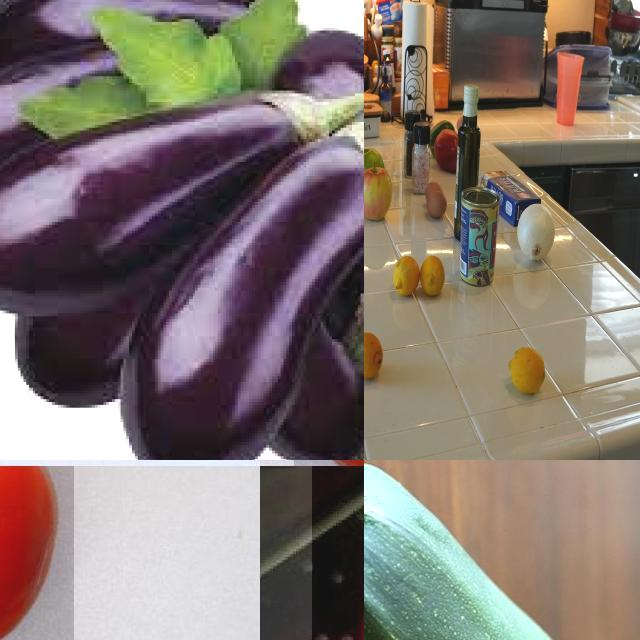bell_pepper: (405, 111, 421, 180), (436, 129, 462, 171), (433, 122, 455, 152)
egg: (427, 193, 449, 221), (424, 184, 444, 209)
eggplant: (121, 120, 365, 461), (1, 91, 318, 317), (1, 45, 267, 217), (272, 28, 365, 434)
onion: (519, 204, 557, 264)
tomato: (1, 467, 74, 640), (313, 467, 365, 640)
zucchini: (365, 461, 640, 640)
